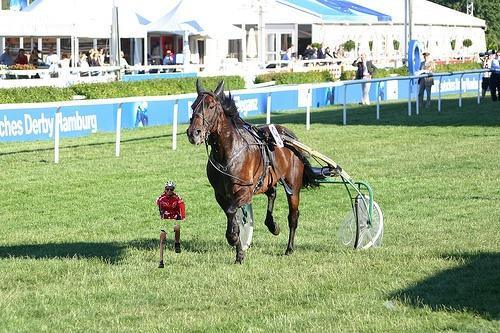tampered: (157, 182, 185, 268)
